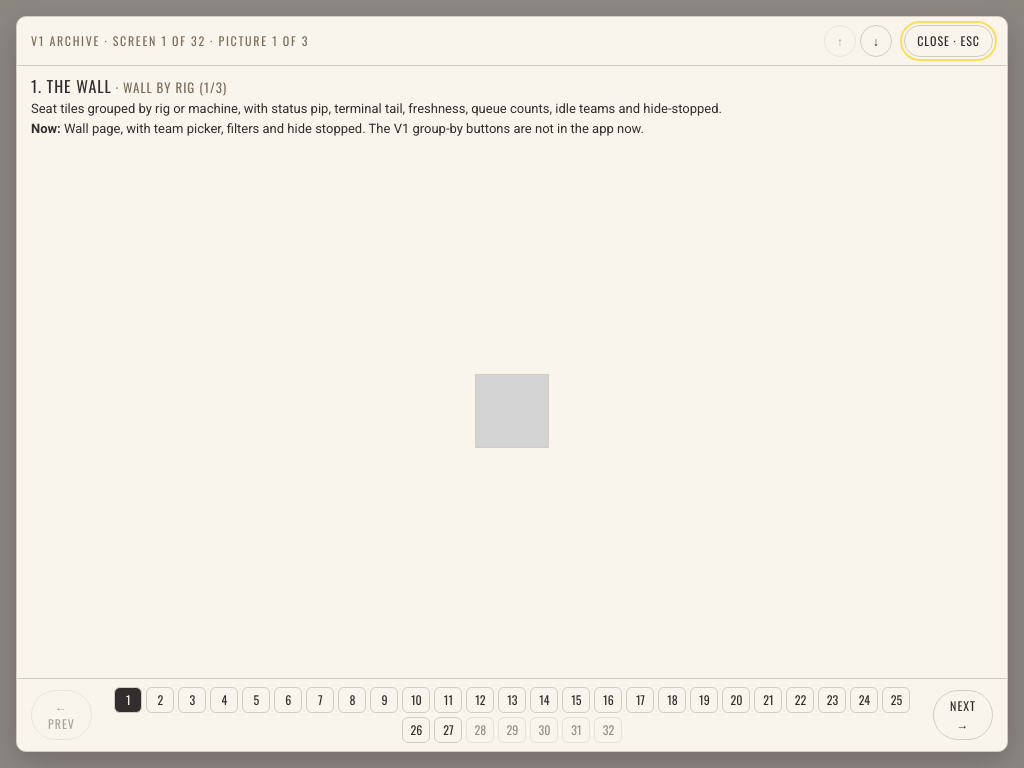
Test: V1 archive viewer › Next, Prev and the arrows move one screen; pictures move with their own switch
Expected: the button with test id "v1-archive-prev" is disabled, [31,690,92,740]
Expected: the button with test id "v1-archive-pic-prev" is disabled, [824,25,856,57]
Note: go to the last picture of screen 1, then Next still lands on screen 2, not picture 3
Press ArrowDown
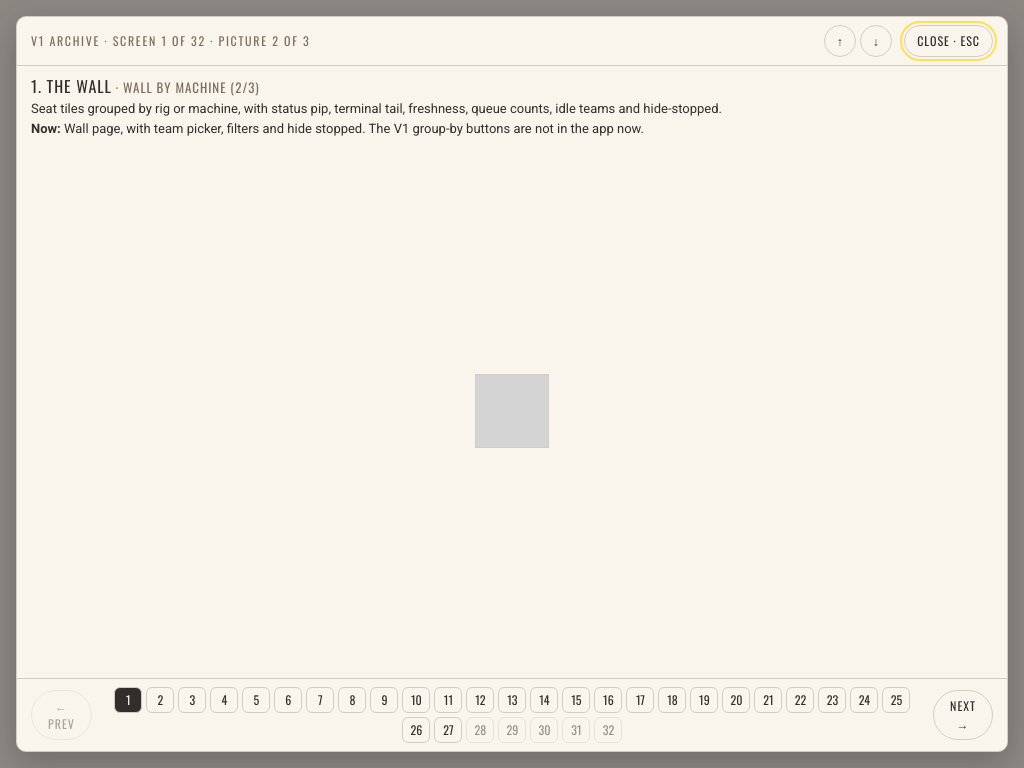
Press ArrowDown
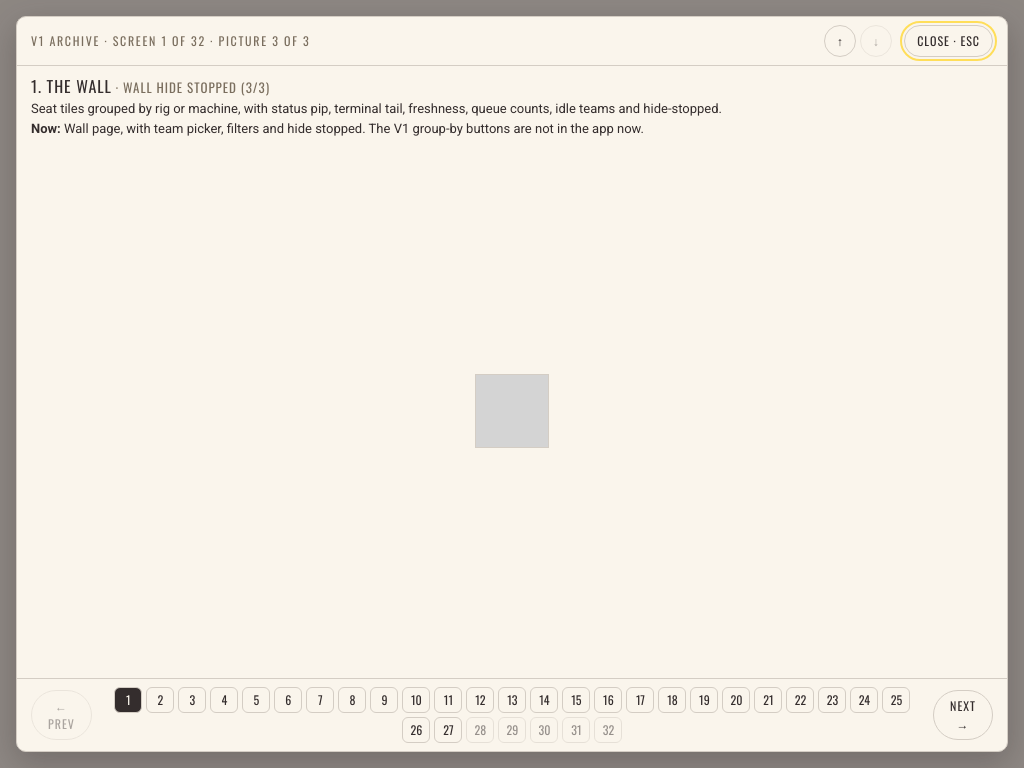
Now the text with test id "v1-archive-count" shows "screen 1 of 32 · picture 3 of 3", box [31,32,310,50]
Press ArrowDown
Now the text with test id "v1-archive-count" shows "picture 3 of 3", box [206,32,310,49]
Click the button with test id "v1-archive-next": {"x": 963, "y": 715} [933,690,993,740]
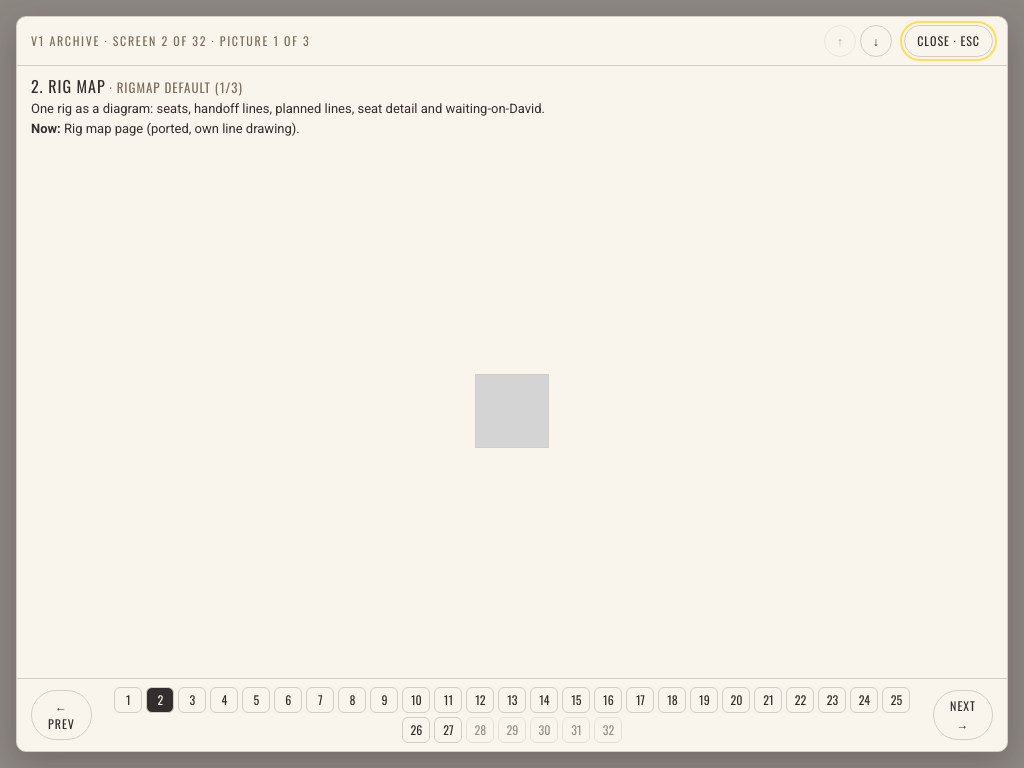
Now the text with test id "v1-archive-count" shows "V1 archive · screen 2 of 32", box [31,32,310,50]
Press ArrowLeft
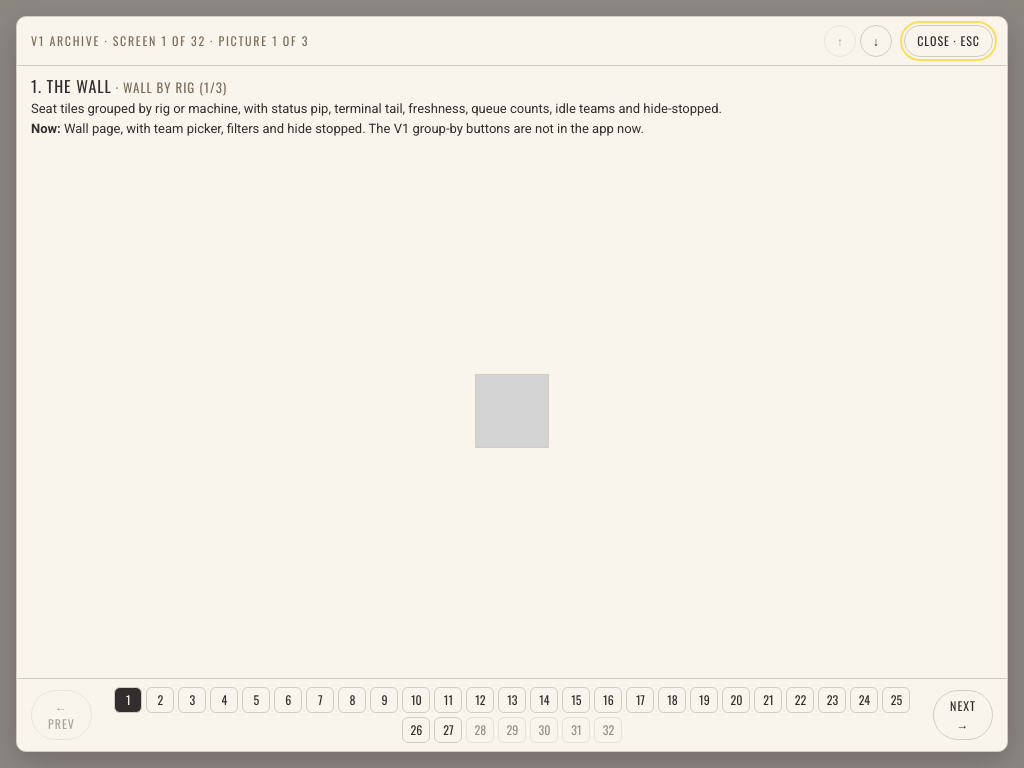
Now the text with test id "v1-archive-count" reads "V1 archive · screen 1 of 32 · picture 1 of 3", box [31,32,309,50]
Press ArrowRight
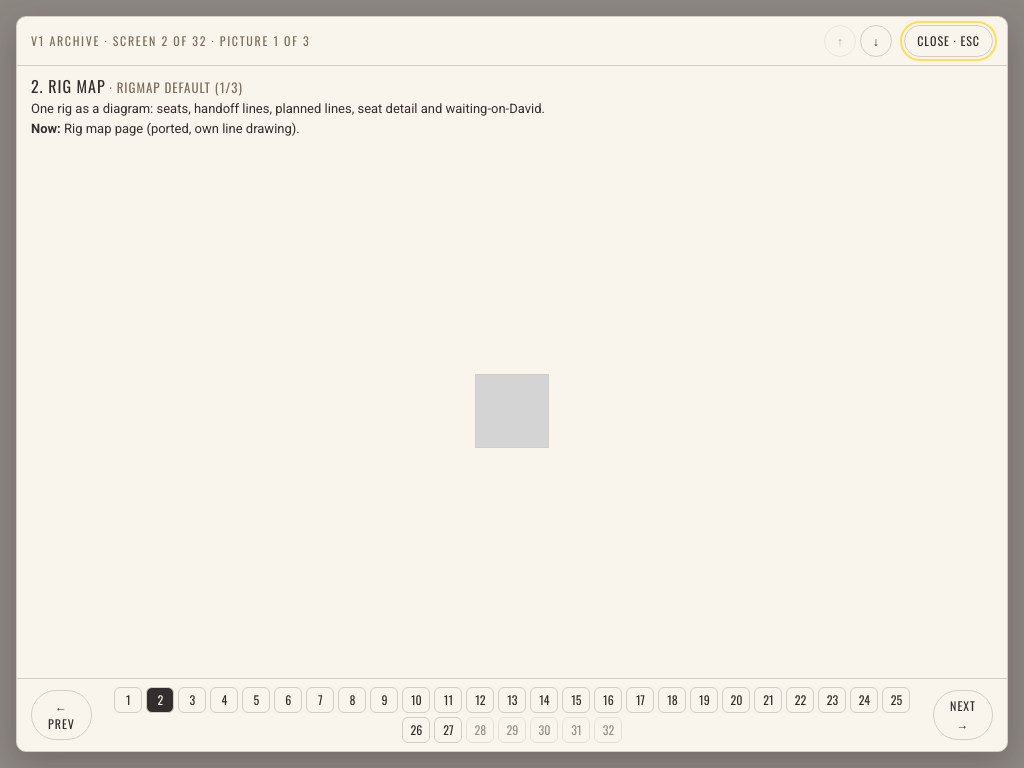
Press ArrowRight
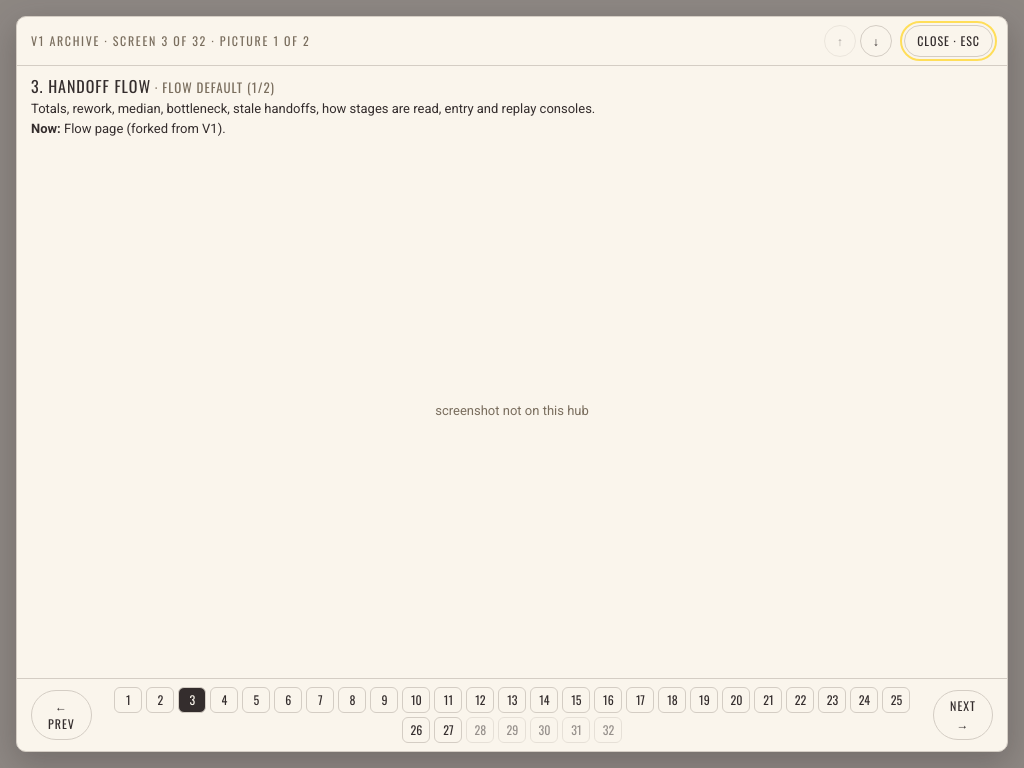
Now the text with test id "v1-archive-count" shows "V1 archive · screen 3 of 32", box [31,32,310,50]
